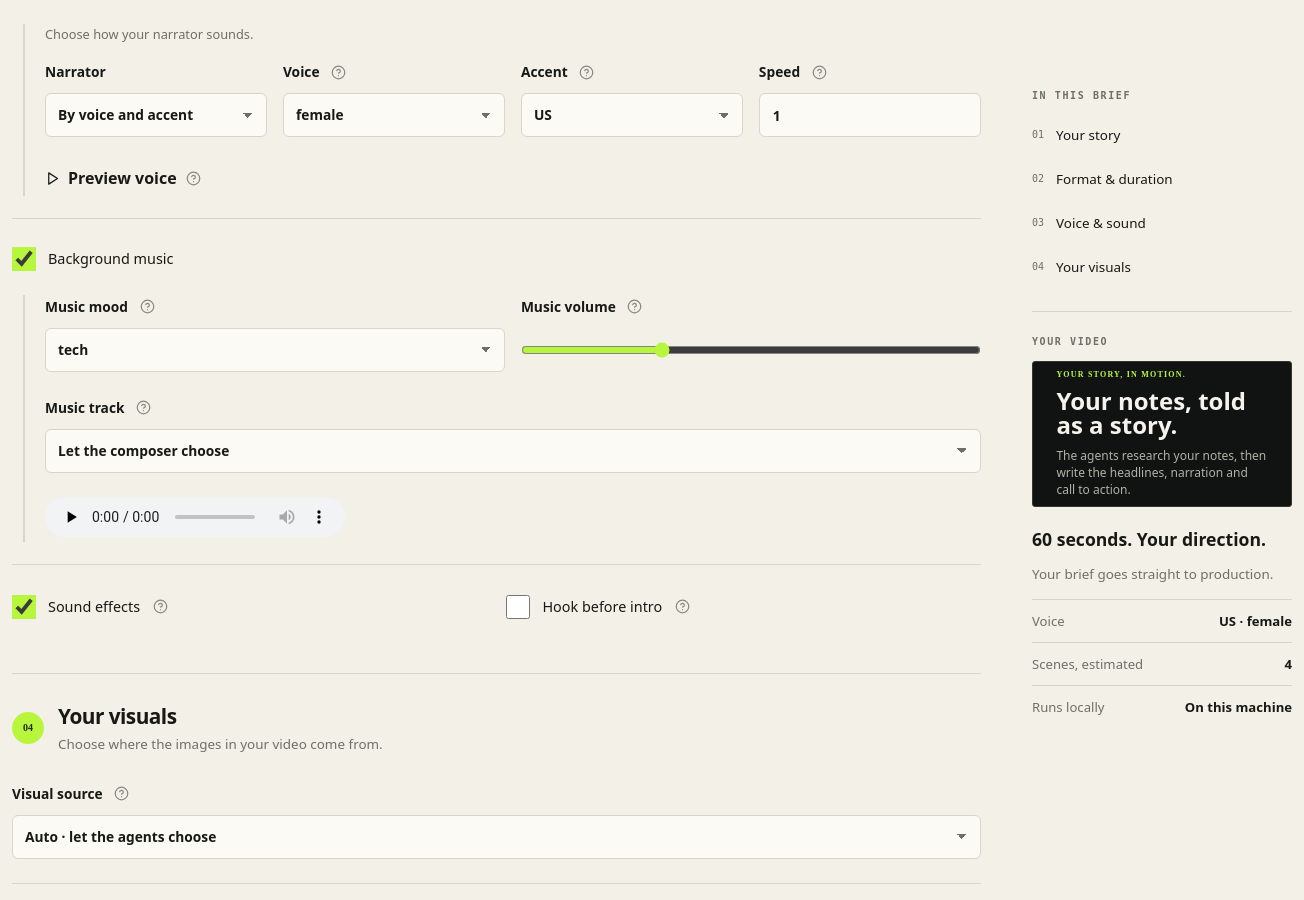
it: brief progressive disclosure › hides music controls when disabled without clearing their values
The width and height of the screenshot is (1304, 900).
(page scrolled)
Select "Calm track" in the dropdown labelled "Music track" at (513, 451), box 45,429 -> 981,473
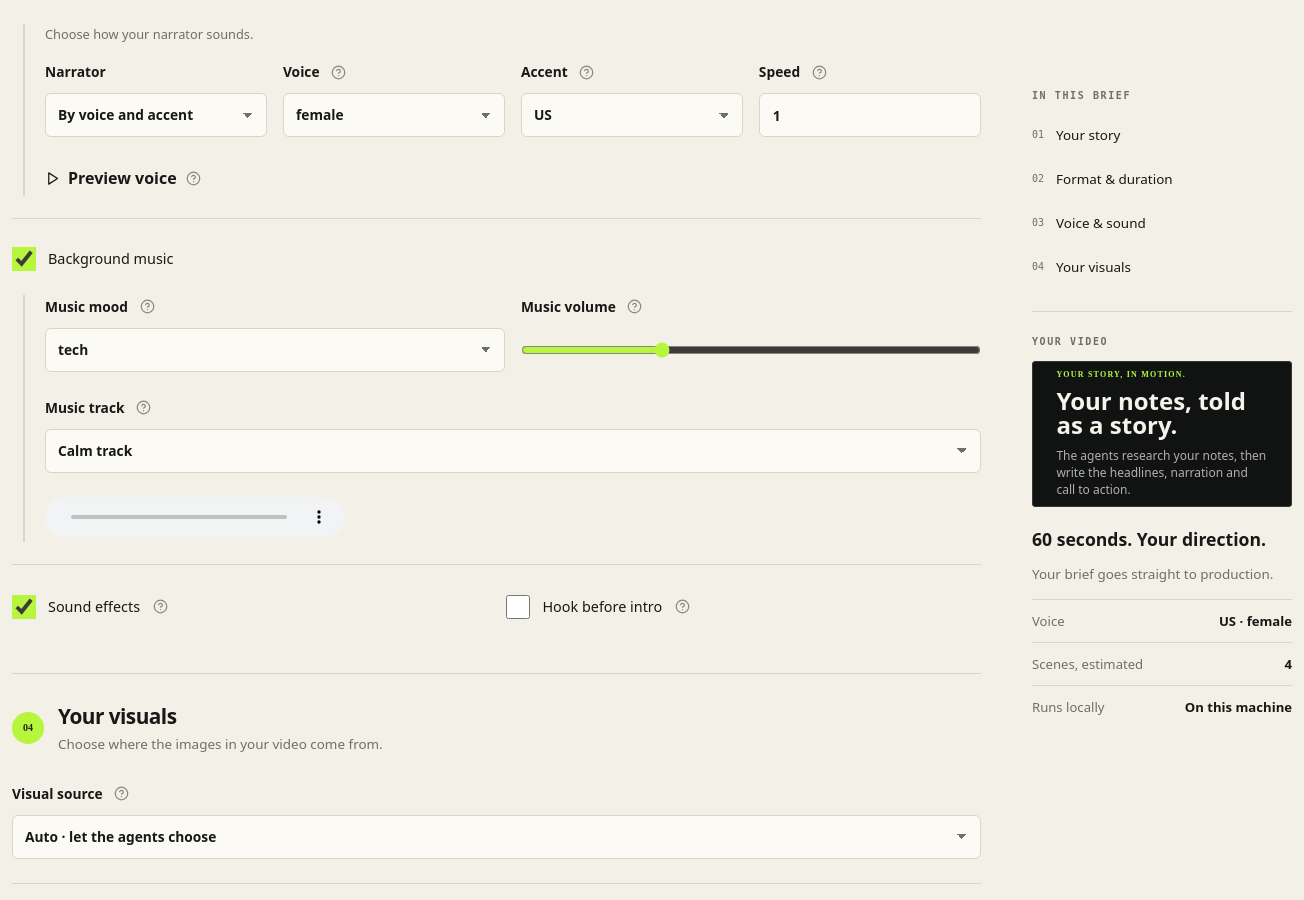
Click the checkbox labelled "Background music" at (24, 259), box 12,247 -> 36,271
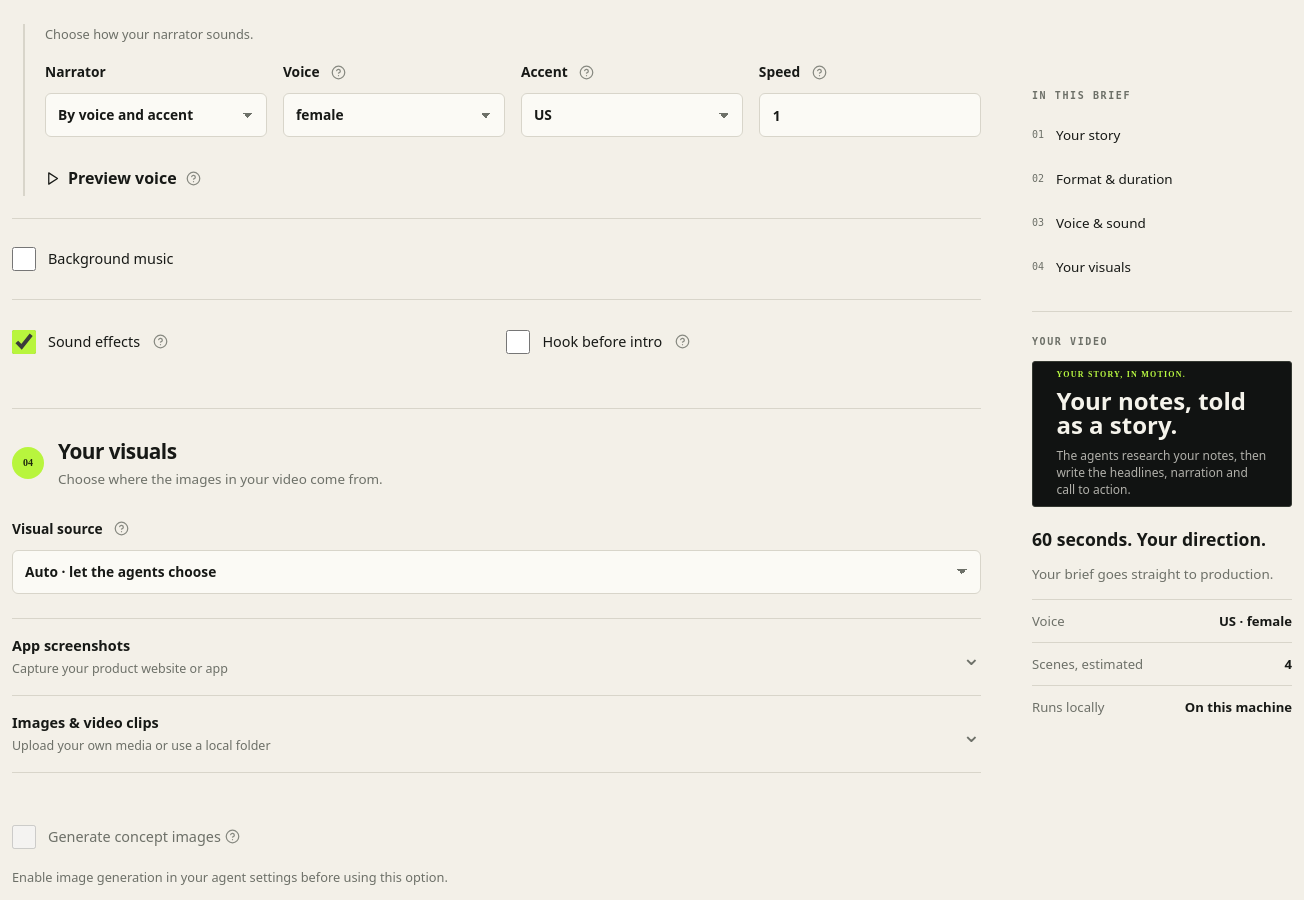
Expected: the label labelled "Music track" is gone
Click the checkbox labelled "Background music" at (24, 259), box 12,247 -> 36,271
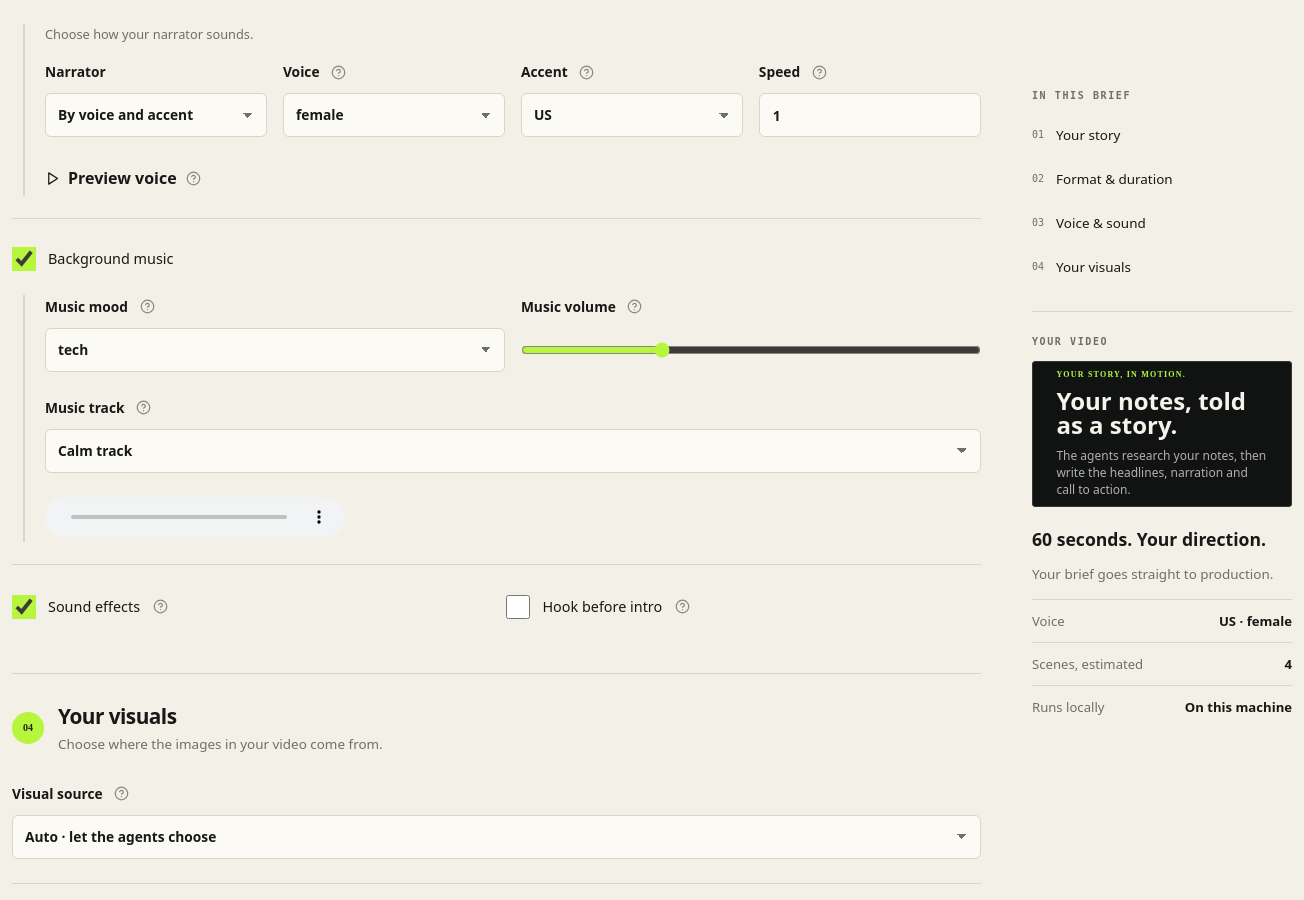
Expected: the dropdown labelled "Music track" shows "Calm track", 45,429 -> 981,473
